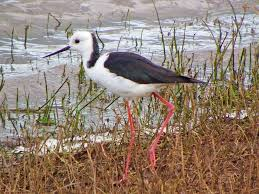Walking: (37, 7, 206, 194)
